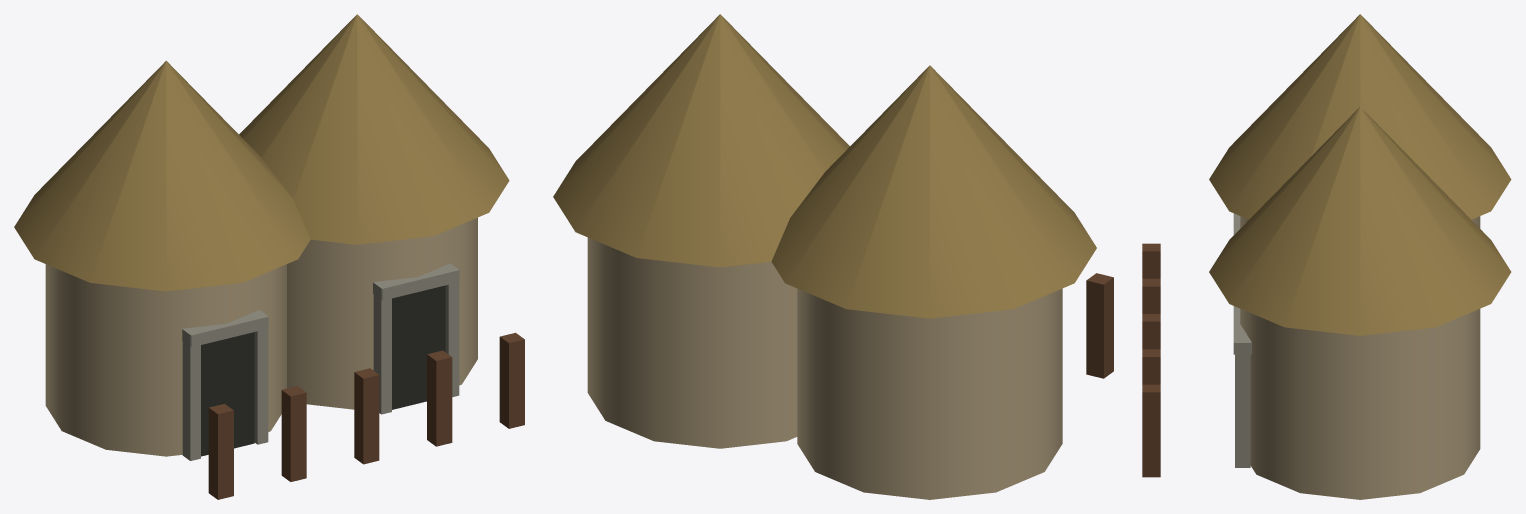
The model's file is custom-home-africa.glb.
The picture shows the model from 3 angles, left to right: view 1: azimuth 30°, elevation 25°; view 2: azimuth 150°, elevation 25°; view 3: azimuth 270°, elevation 25°; orthographic projection. The views are drawn at different scales.
Parts seen in each view (by area): view 1: custom-home-africa; view 2: custom-home-africa; view 3: custom-home-africa.
Boxes of the visible parts, x1,y1,x2,y2 form: custom-home-africa: [14, 14, 524, 499]; custom-home-africa: [553, 14, 1113, 499]; custom-home-africa: [1142, 14, 1511, 499].
Bounding box in the file's own units: 1 × 0.725 × 0.7075.
